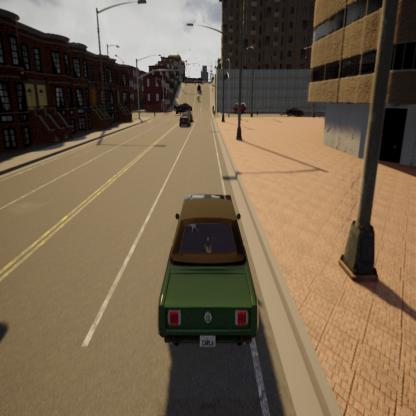Cars: (151, 180, 272, 359), (287, 101, 308, 128), (172, 100, 194, 117), (230, 97, 249, 115), (179, 110, 192, 126), (196, 82, 202, 92), (195, 94, 201, 103)
Pedestrian: (255, 98, 261, 119), (151, 104, 158, 119), (211, 102, 215, 119)
